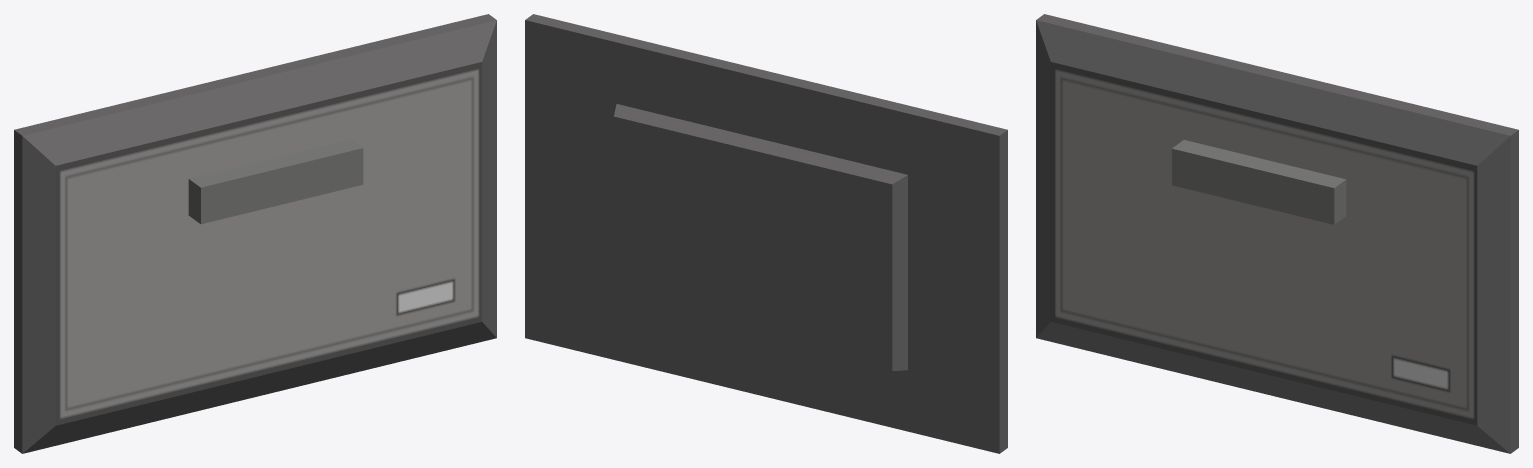
Rendered from Prop_SafeDepositBox_Cover_01.glb.
The picture shows the model from 3 angles, left to right: view 1: azimuth 30°, elevation 25°; view 2: azimuth 150°, elevation 25°; view 3: azimuth 330°, elevation 25°; orthographic projection.
Parts seen in each view (by area): view 1: SM_Prop_SafeDepositBox_Cover_01; view 2: SM_Prop_SafeDepositBox_Cover_01; view 3: SM_Prop_SafeDepositBox_Cover_01.
Boxes of the visible parts, bbox=[...] form: SM_Prop_SafeDepositBox_Cover_01: bbox=[14, 14, 496, 453]; SM_Prop_SafeDepositBox_Cover_01: bbox=[525, 14, 1007, 453]; SM_Prop_SafeDepositBox_Cover_01: bbox=[1036, 14, 1518, 453].
Size of the model in its own units: 0.5966 by 0.3821 by 0.0848.
1 material, 1 textured.
